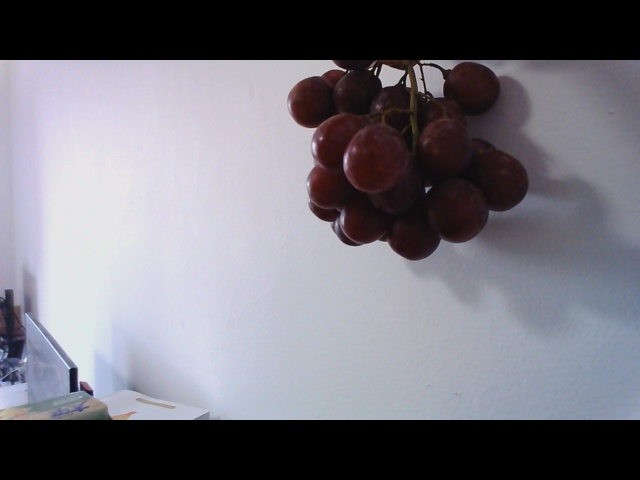grape: (282, 70, 532, 273)
